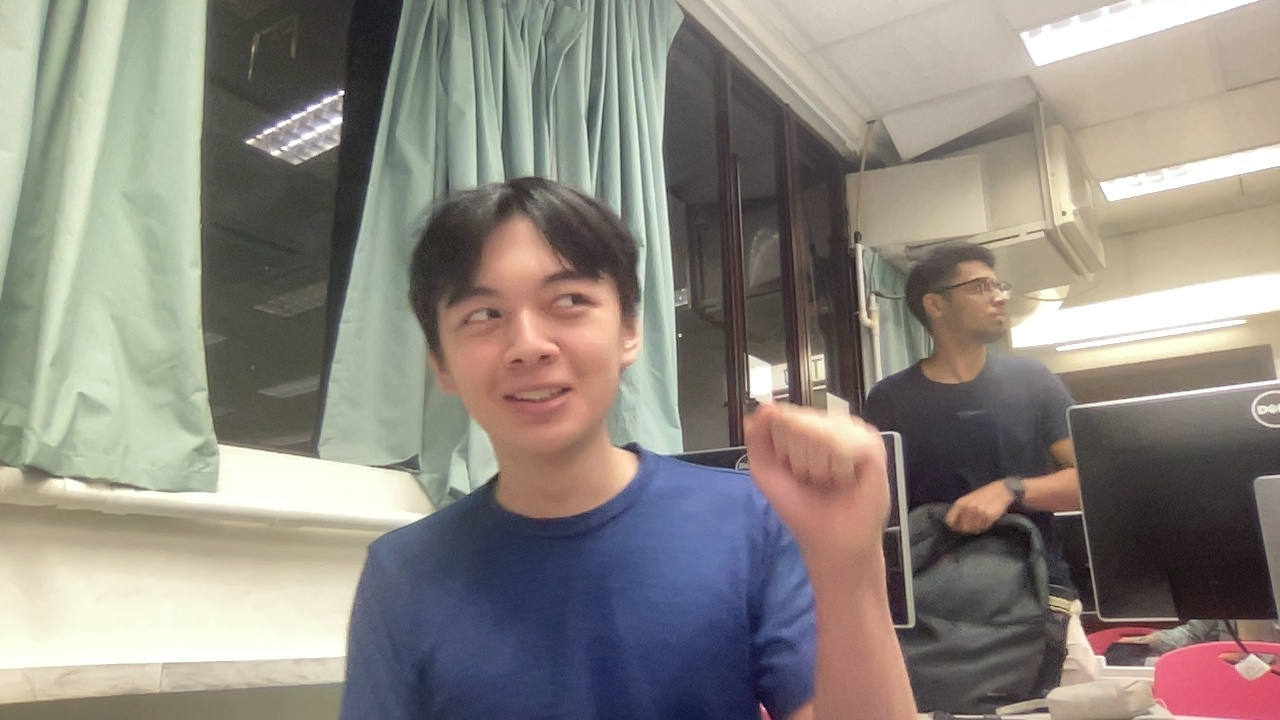yes: (710, 384, 962, 575)
